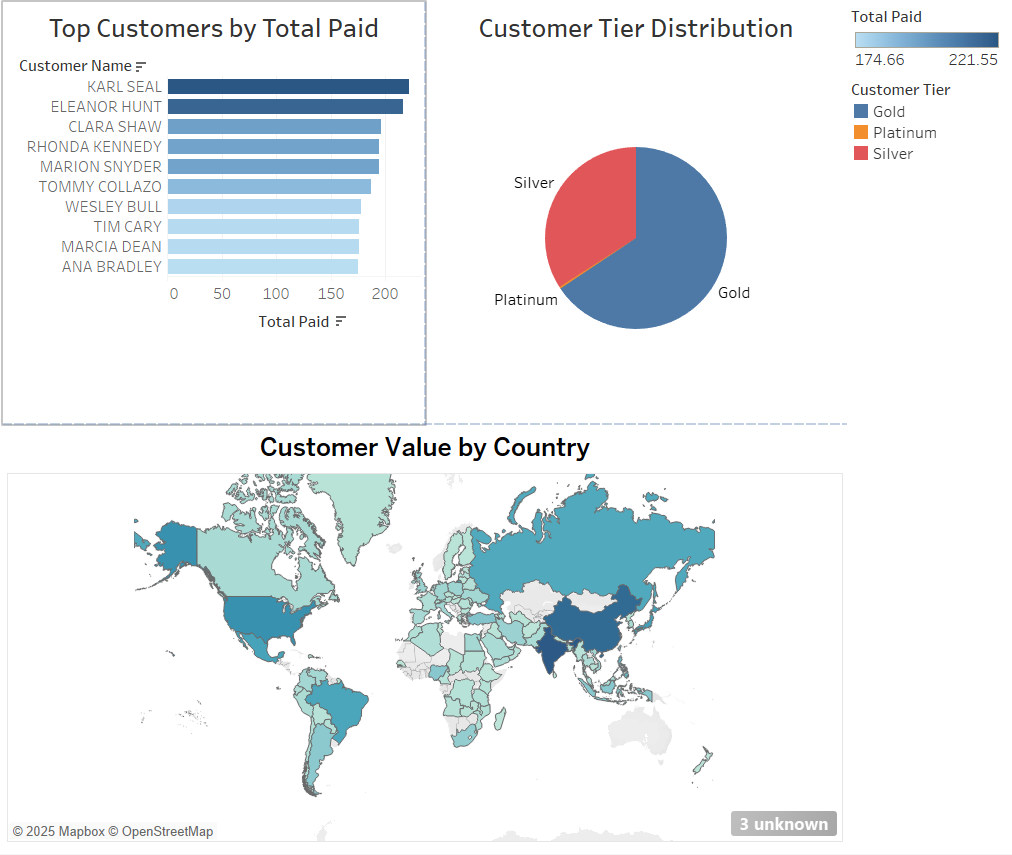

The dashboard page shown, as its layout file describes it:
{"tool":"tableau","page":{"name":"Maven Movies Cutomer Value Report","canvas":[1000,1000],"units":"permille","ordinal":0},"visuals":[{"type":"worksheet","title":"Top Customers by Total Paid","mark":"Automatic","rows":["customer_name"],"cols":["total_paid"],"box":[7.8,9.3,413.7,490.7]},{"type":"worksheet","title":"Customer Tier Distribution","mark":"Pie","box":[421.5,9.3,413.8,490.7]},{"type":"legend","title":"Top Customers by Total Paid","param":"[federated.0ou12tf1c0erou15x36xl1tjo6wp].[sum:total_paid:qk]","box":[835.3,9.3,156.9,84.9]},{"type":"legend","title":"Customer Tier Distribution","param":"[federated.0ou12tf1c0erou15x36xl1tjo6wp].[none:customer_tier:nk]","box":[835.3,94.2,156.9,108.1]},{"type":"worksheet","title":"Customer Value by Country","mark":"Automatic","box":[7.8,500,827.5,490.7]}]}

Visuals, with their boxes on the dashboard's canvas, which has no fixed pixel size, in thousandths of its width and height (x1, y1, x2, y2). These are canvas units, not pixel positions in the 1012x855 screenshot, which may show the page scaled, cropped or inside an application window:
"Top Customers by Total Paid" worksheet: box(8, 9, 422, 500)
"Customer Tier Distribution" worksheet (Pie marks): box(422, 9, 835, 500)
"Top Customers by Total Paid" legend: box(835, 9, 992, 94)
"Customer Tier Distribution" legend: box(835, 94, 992, 202)
"Customer Value by Country" worksheet: box(8, 500, 835, 991)
